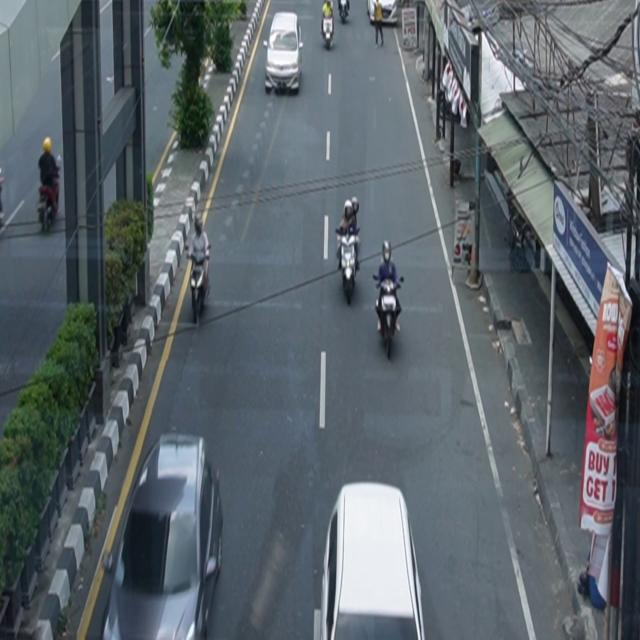car: (79, 432, 224, 640), (314, 482, 427, 640), (264, 12, 304, 95), (367, 1, 399, 27)
